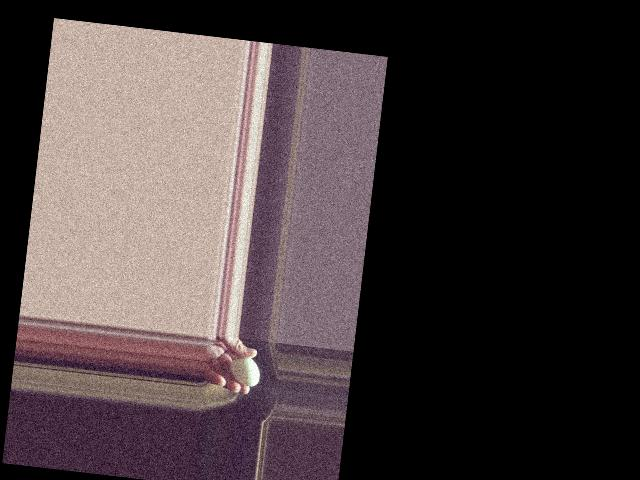egg: (229, 355, 261, 386)
